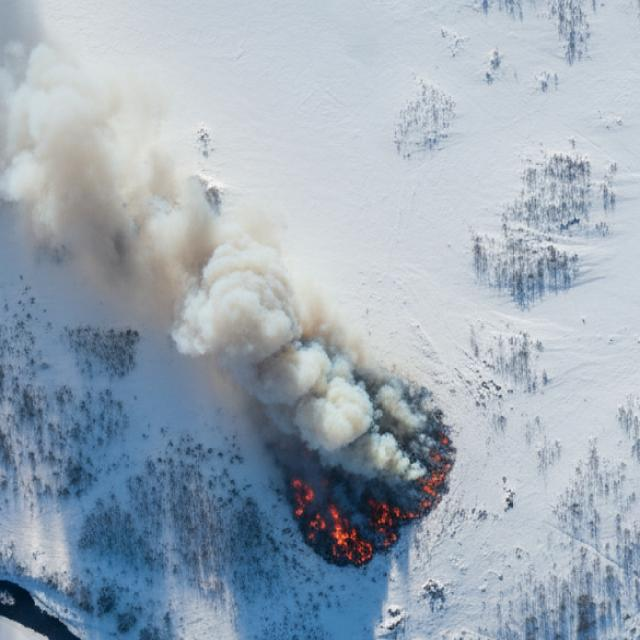wildfire: (176, 247, 459, 573)
